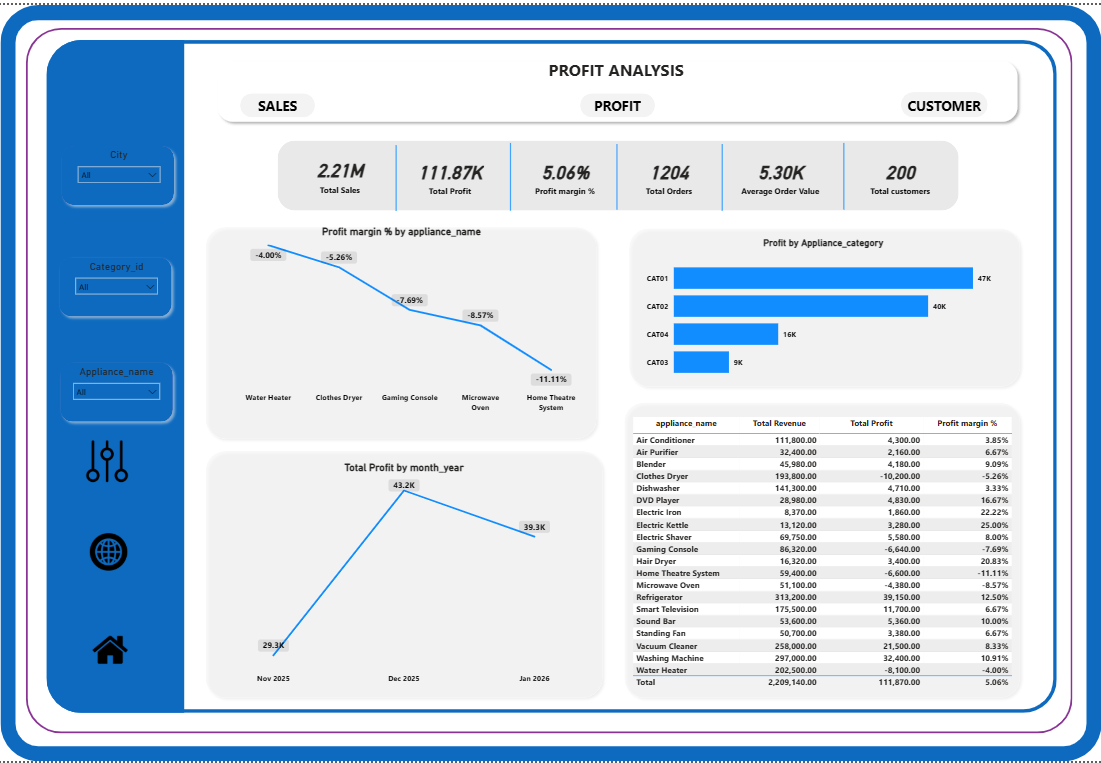

The page's visual inventory and layout, read from the dashboard file:
{"tool":"powerbi","page":{"name":"Page 2","canvas":[1850,1250],"ordinal":1},"visuals":[{"type":"shape","box":[14,0,1820,1250],"z":0},{"type":"shape","box":[472,224,1126,116],"z":1000},{"type":"shape","box":[1044,360,664,280],"z":2000},{"type":"shape","box":[1036,648,672,506],"z":3000},{"type":"shape","box":[56,38,1730,1166],"z":4000},{"type":"clusteredBarChart","title":"Profit by Appliance_category","fields":{"Y":["Measures Table.Total Profit"],"Category":["vw_clean_products.category_id"]},"box":[1076,384.3,596,249.1],"z":5000},{"type":"tableEx","fields":{"Values":["vw_clean_products.appliance_name","Measures Table.Total Revenue","Measures Table.Total Profit","Measures Table.Profit margin %"]},"box":[1054.2,676.9,641.6,457.9],"z":6000},{"type":"shape","box":[92,58,1668,1112],"z":7000},{"type":"shape","box":[90,58,228,1112],"z":8000},{"type":"card","fields":{"Values":["Measures Table.Profit margin %"]},"box":[886,238,122,90],"z":9000},{"type":"shape","box":[364,84,1340,118],"z":10000},{"type":"group","id":"g1","title":"Group 1","box":[106,224,204,116],"z":11000},{"type":"group","id":"g2","title":"Group 2","box":[102,408,204,116],"z":12000},{"type":"card","fields":{"Values":["Measures Table.Total Profit"]},"box":[696,238,122,90],"z":13000},{"type":"group","id":"g3","title":"Group 4","box":[104,582,204,116],"z":15000},{"type":"card","fields":{"Values":["Measures Table.Total Sales"]},"box":[514.9,235.9,122,90],"z":16000},{"type":"shape","box":[104,582,204,116],"z":16000,"group":"g3"},{"type":"card","fields":{"Values":["Measures Table.Total customers"]},"box":[1440,238,122,90],"z":17000},{"type":"slicer","title":"Appliance_name","fields":{"Values":["products.appliance_name"]},"box":[124.5,596,164,88],"z":17000,"group":"g3"},{"type":"shape","box":[106,224,204,116],"z":18000,"group":"g1"},{"type":"shape","box":[344,358,664,368],"z":18000},{"type":"slicer","title":"City","fields":{"Values":["customers.city"]},"box":[132,238,156,86],"z":19000,"group":"g1"},{"type":"card","fields":{"Values":["Measures Table.Average Order Value"]},"box":[1230,238,146,90],"z":19000},{"type":"card","fields":{"Values":["Measures Table.Total Orders"]},"box":[1058,238,122,90],"z":20000},{"type":"shape","box":[102,408,204,116],"z":20000,"group":"g2"},{"type":"shape","box":[344,728,674,426],"z":21000},{"type":"actionButton","title":"SALES","box":[410,146,124,40],"z":22000},{"type":"slicer","title":"Category_id","fields":{"Values":["products.category_id"]},"box":[128.5,422,156,88],"z":22000,"group":"g2"},{"type":"textbox","box":[840,84,376,48],"z":23000},{"type":"shape","box":[658,232,20,108],"z":24000},{"type":"actionButton","title":"SALES","box":[972,146,124,40],"z":25000},{"type":"actionButton","title":"SALES","box":[1502,144,144,42],"z":26000},{"type":"shape","box":[1396,228,24,110],"z":27000},{"type":"shape","box":[1200,230,14,110],"z":29000},{"type":"shape","box":[1022,230,22,108],"z":30000},{"type":"shape","box":[846,228,22,112],"z":31000},{"type":"lineChart","fields":{"Category":["Dim_Date.month_year"],"Y":["Measures Table.Total Profit"]},"box":[374,754,614,378],"z":32000},{"type":"lineChart","fields":{"Y":["Measures Table.Profit margin %"],"Category":["vw_clean_products.appliance_name"]},"box":[370,364,614,318],"z":33000},{"type":"image","box":[154,1032,82,68],"z":33001},{"type":"image","box":[146,868,94,72],"z":33002},{"type":"image","box":[146,714,88,80],"z":33003}]}

Visuals, with their boxes in screenshot pixels (x1, y1, x2, y2), scaled from the page's 1850x1250 canvas onto the 1101x763 screenshot:
shape: crop(8, 0, 1091, 762)
shape: crop(281, 137, 951, 208)
shape: crop(621, 220, 1016, 391)
shape: crop(617, 396, 1016, 704)
shape: crop(33, 23, 1063, 735)
"Profit by Appliance_category" clusteredBarChart: crop(640, 235, 995, 387)
tableEx - vw_clean_products.appliance_name x Measures Table.Total Revenue: crop(627, 413, 1009, 693)
shape: crop(55, 35, 1047, 714)
shape: crop(54, 35, 189, 714)
card - Measures Table.Profit margin %: crop(527, 145, 600, 200)
shape: crop(217, 51, 1014, 123)
"Group 1" group: crop(63, 137, 184, 208)
"Group 2" group: crop(61, 249, 182, 320)
card - Measures Table.Total Profit: crop(414, 145, 487, 200)
"Group 4" group: crop(62, 355, 183, 426)
card - Measures Table.Total Sales: crop(306, 144, 379, 199)
shape: crop(62, 355, 183, 426)
card - Measures Table.Total customers: crop(857, 145, 930, 200)
"Appliance_name" slicer: crop(74, 364, 172, 418)
shape: crop(63, 137, 184, 208)
shape: crop(205, 219, 600, 443)
"City" slicer: crop(79, 145, 171, 198)
card - Measures Table.Average Order Value: crop(732, 145, 819, 200)
card - Measures Table.Total Orders: crop(630, 145, 702, 200)
shape: crop(61, 249, 182, 320)
shape: crop(205, 444, 606, 704)
"SALES" actionButton: crop(244, 89, 318, 114)
"Category_id" slicer: crop(76, 258, 169, 311)
textbox: crop(500, 51, 724, 81)
shape: crop(392, 142, 404, 208)
"SALES" actionButton: crop(578, 89, 652, 114)
"SALES" actionButton: crop(894, 88, 980, 114)
shape: crop(831, 139, 845, 206)
shape: crop(714, 140, 722, 208)
shape: crop(608, 140, 621, 206)
shape: crop(503, 139, 517, 208)
lineChart - Dim_Date.month_year x Measures Table.Total Profit: crop(223, 460, 588, 691)
lineChart - Measures Table.Profit margin % x vw_clean_products.appliance_name: crop(220, 222, 586, 416)
image: crop(92, 630, 140, 671)
image: crop(87, 530, 143, 574)
image: crop(87, 436, 139, 485)
